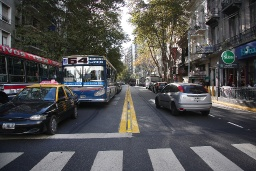bus: (61, 54, 117, 104), (1, 43, 63, 85)
car: (2, 83, 82, 134), (152, 82, 213, 119)
